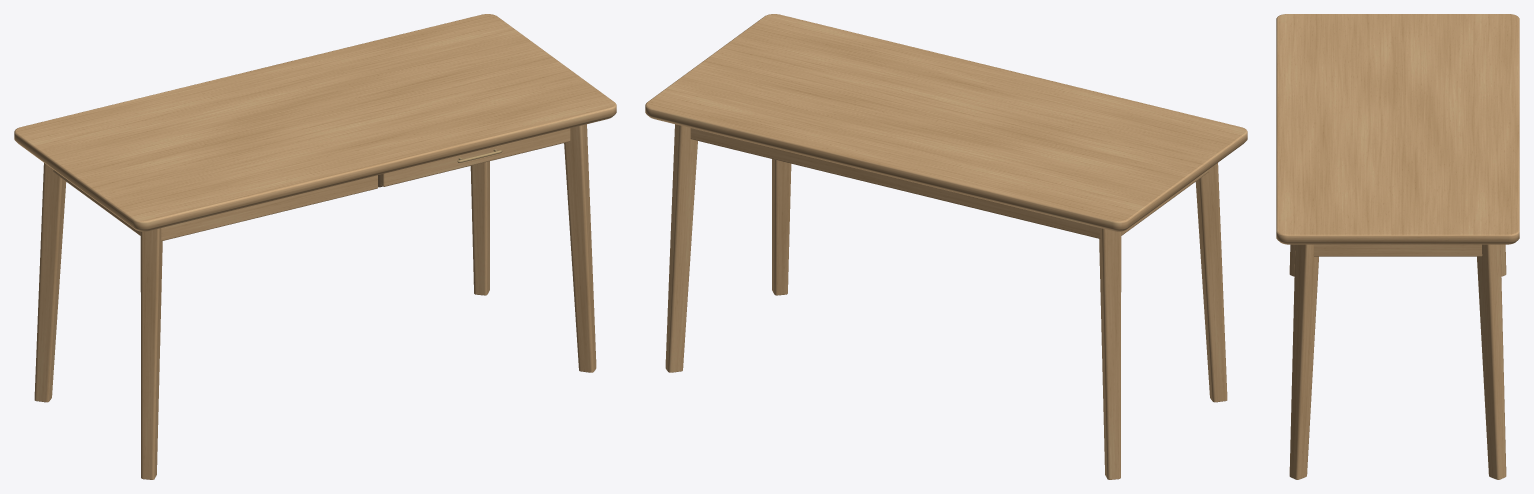
Rendered from Study_Desk.glb.
The picture shows the model from 3 angles, left to right: view 1: azimuth 30°, elevation 25°; view 2: azimuth 150°, elevation 25°; view 3: azimuth 270°, elevation 25°; orthographic projection. The views are drawn at different scales.
Visible parts, largest first — view 1: Desk_Top, Desk_Leg_R_Front, Desk_Leg_L_Front, Desk_Leg_L_Back, Desk_Apron_Left, Drawer_OakFront, Desk_Leg_R_Back; view 2: Desk_Top, Desk_Leg_R_Back, Desk_Leg_L_Back, Desk_Apron_Rear, Desk_Leg_L_Front, Desk_Leg_R_Front; view 3: Desk_Top, Desk_Leg_R_Back, Desk_Leg_R_Front, Desk_EndRail_R.
Boxes of the visible parts, left/top/right/bottom form: Desk_Top: left=14, top=14, right=616, bottom=231; Desk_Leg_R_Front: left=564, top=124, right=596, bottom=372; Desk_Leg_L_Front: left=140, top=228, right=162, bottom=479; Desk_Leg_L_Back: left=34, top=163, right=66, bottom=402; Desk_Apron_Left: left=161, top=175, right=378, bottom=241; Drawer_OakFront: left=380, top=128, right=570, bottom=186; Desk_Leg_R_Back: left=470, top=161, right=489, bottom=295; Desk_Top: left=645, top=14, right=1247, bottom=231; Desk_Leg_R_Back: left=665, top=124, right=697, bottom=372; Desk_Leg_L_Back: left=1099, top=228, right=1121, bottom=479; Desk_Apron_Rear: left=690, top=128, right=1100, bottom=238; Desk_Leg_L_Front: left=1195, top=163, right=1227, bottom=402; Desk_Leg_R_Front: left=772, top=159, right=791, bottom=295; Desk_Top: left=1276, top=14, right=1519, bottom=244; Desk_Leg_R_Back: left=1477, top=244, right=1506, bottom=479; Desk_Leg_R_Front: left=1289, top=244, right=1318, bottom=479; Desk_EndRail_R: left=1313, top=244, right=1482, bottom=256.
Bounding box in the file's own units: 1.4 × 0.74 × 0.65.
Materials: 3 (1 with a texture image).
